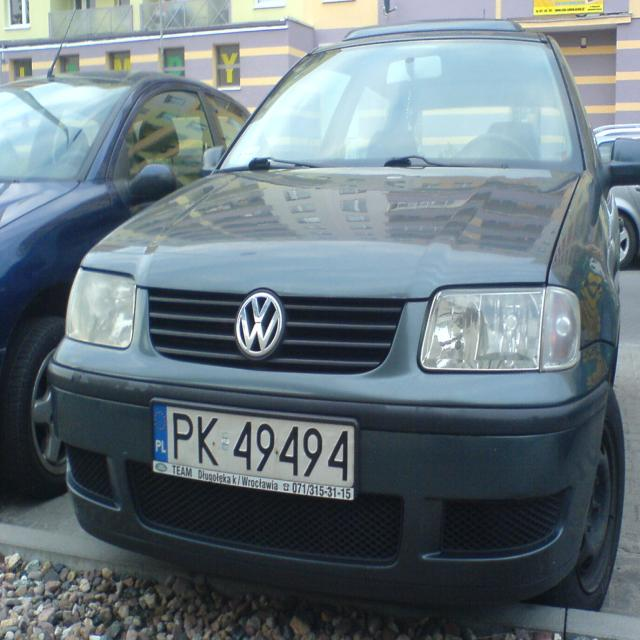pl_license_plate: (152, 400, 355, 488)
